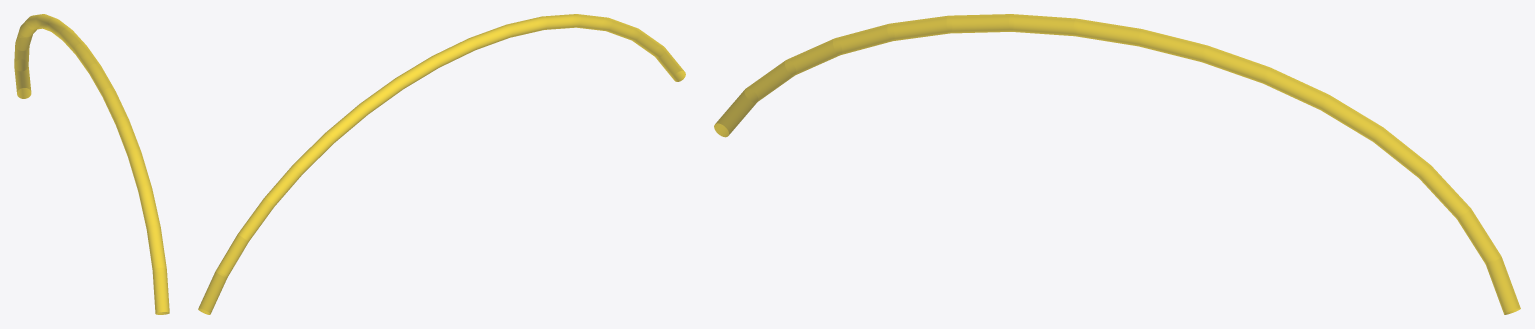
The model's file is Event_100608114_track_66.fbx.
3 renders of one model, left to right at view 1: azimuth 30°, elevation 25°; view 2: azimuth 150°, elevation 25°; view 3: azimuth 270°, elevation 25°, orthographic. The views are drawn at different scales.
Visible parts, largest first — view 1: Model; view 2: Model; view 3: Model.
Boxes of the visible parts, x1=… form: Model: x1=14, y1=14, x2=169, y2=314; Model: x1=198, y1=14, x2=685, y2=314; Model: x1=714, y1=14, x2=1520, y2=314.
Size of the model in its own units: 0.6172 by 0.5724 by 1.8.
